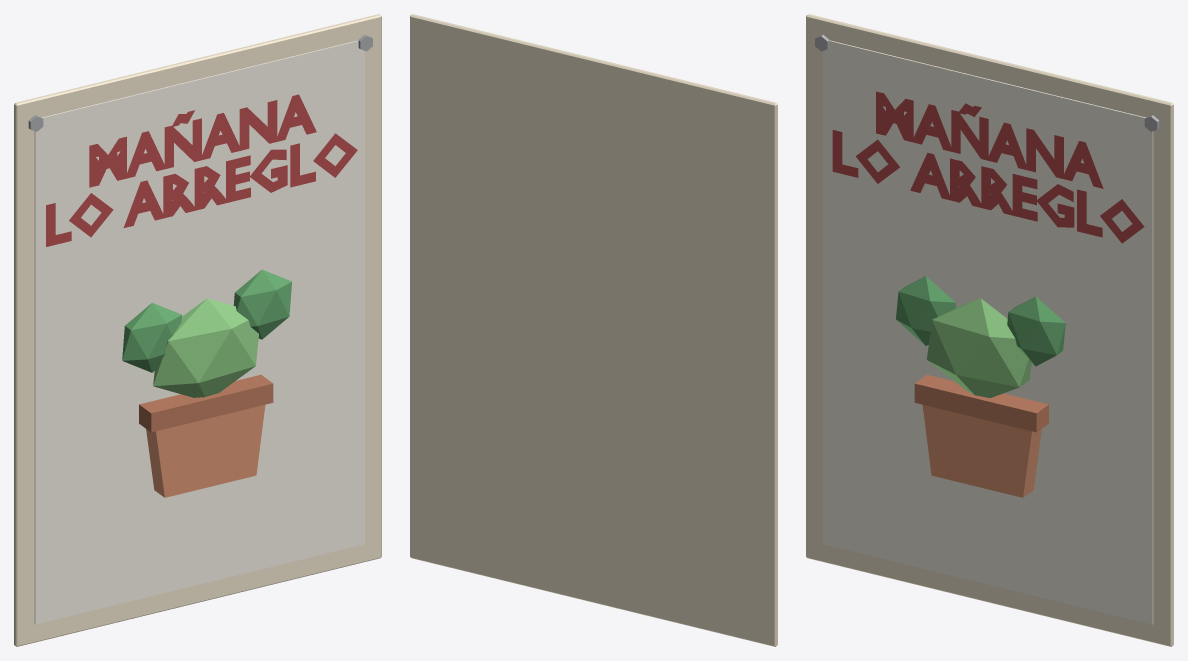
File: prop_poster_flat_01.glb
3 renders of one model, left to right at view 1: azimuth 30°, elevation 25°; view 2: azimuth 150°, elevation 25°; view 3: azimuth 330°, elevation 25°, orthographic.
Visible parts, largest first — view 1: prop_poster_flat_01_body; view 2: prop_poster_flat_01_body; view 3: prop_poster_flat_01_body.
Part boxes in pixels (<box>): prop_poster_flat_01_body: <box>14,14,381,646</box>; prop_poster_flat_01_body: <box>410,14,777,646</box>; prop_poster_flat_01_body: <box>806,14,1173,646</box>.
Size of the model in its own units: 0.6 by 0.85 by 0.053.
